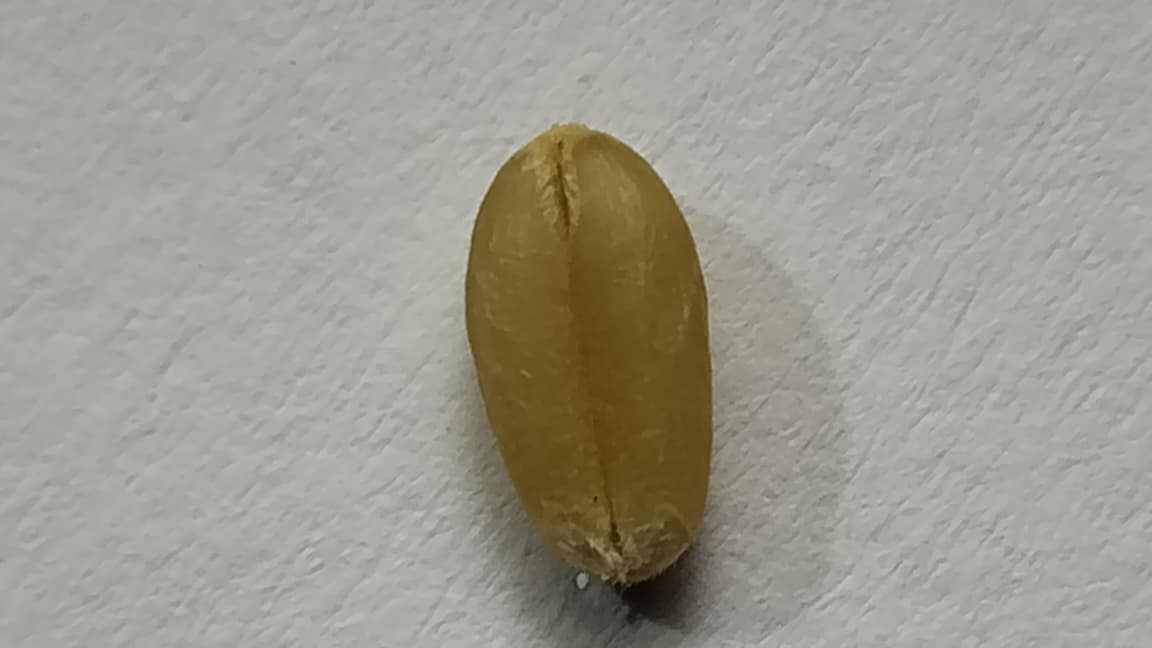healthy: (466, 123, 712, 582)
